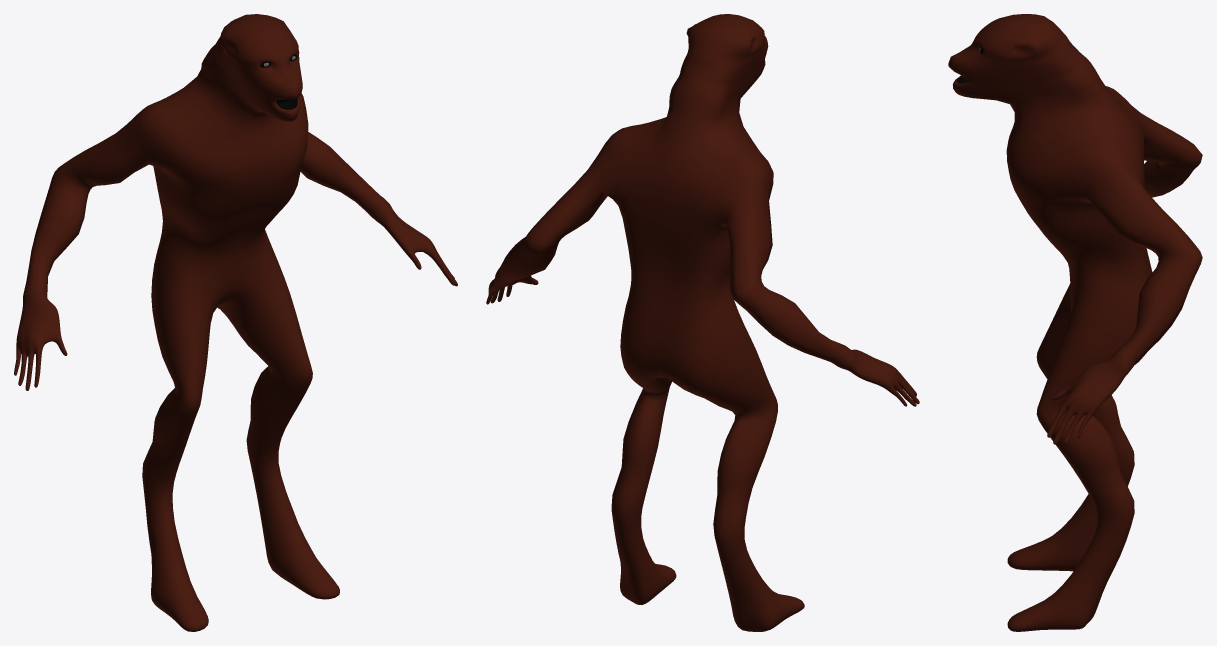
The model's file is LOBO_HIGH_POLY.fbx.
The picture shows the model from 3 angles, left to right: view 1: azimuth 30°, elevation 25°; view 2: azimuth 150°, elevation 25°; view 3: azimuth 270°, elevation 25°; orthographic projection. The views are drawn at different scales.
Parts seen in each view (by area): view 1: LOBO; view 2: LOBO; view 3: LOBO.
Boxes of the visible parts, left/top/right/bottom form: LOBO: left=14, top=14, right=457, bottom=631; LOBO: left=486, top=14, right=919, bottom=631; LOBO: left=948, top=14, right=1202, bottom=631.
Bounding box in the file's own units: 553 × 716 × 285.
